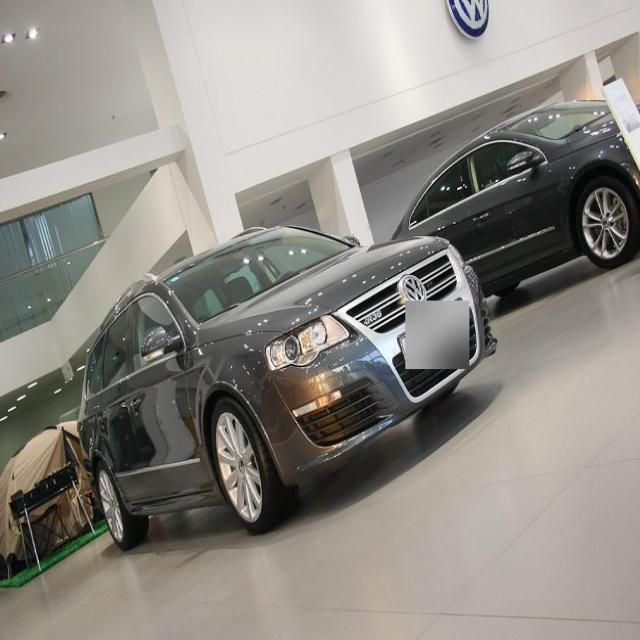front_bumper: (244, 265, 499, 490)
front_glass: (161, 225, 354, 324)
front_right_side_door: (125, 287, 213, 508)
front_right_side_light: (262, 312, 352, 374)
front_right_side_mirror: (140, 326, 179, 365)
wheel: (214, 398, 297, 530), (94, 457, 149, 552)
